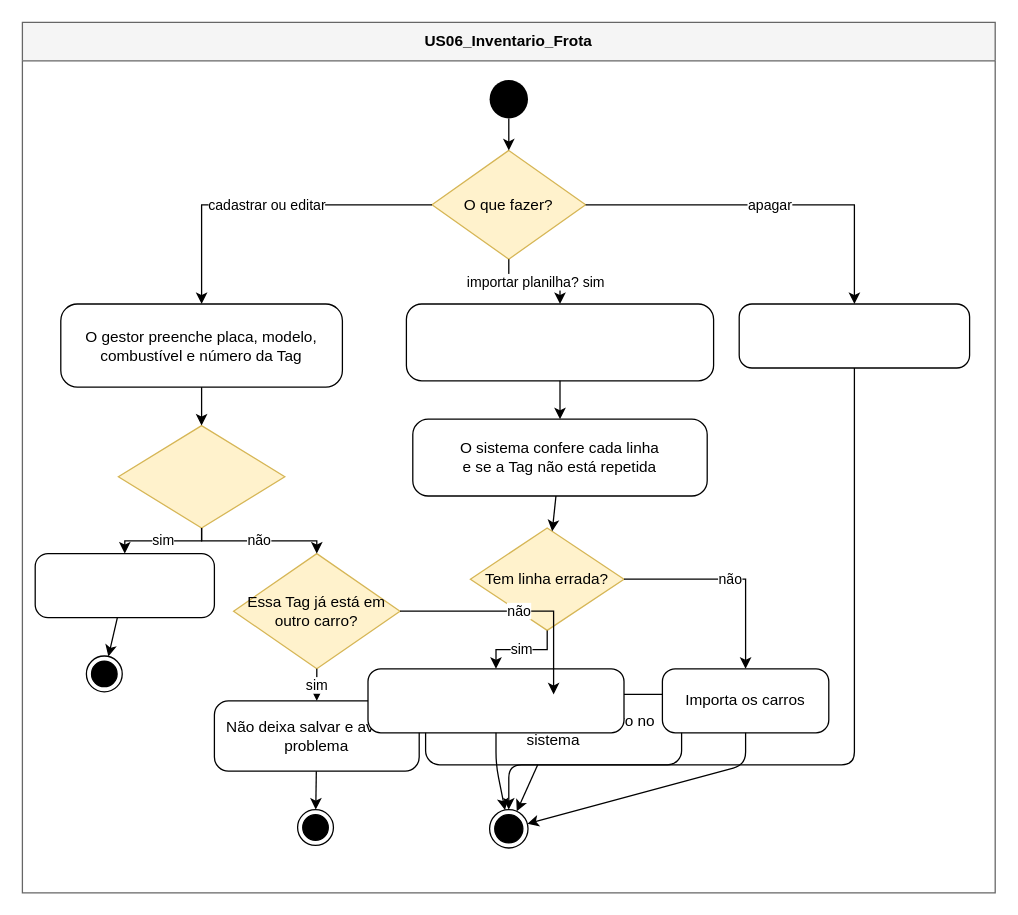
The diagram is 1018 pixels wide and 915 high, and some of its shapes have lost their labels. Here are the shapes that lost their labels. From the top down, the centre of each, then its label:
At (559,342): "O gestor envia arquivo CSV ou Excel com vários carros".
At (854,335): "O gestor apaga o carro da lista".
At (201,476): "Faltou algum campo?".
At (124,585): "Mostra mensagem de erro".
At (495,700): "Mostra quais linhas estão erradas".
